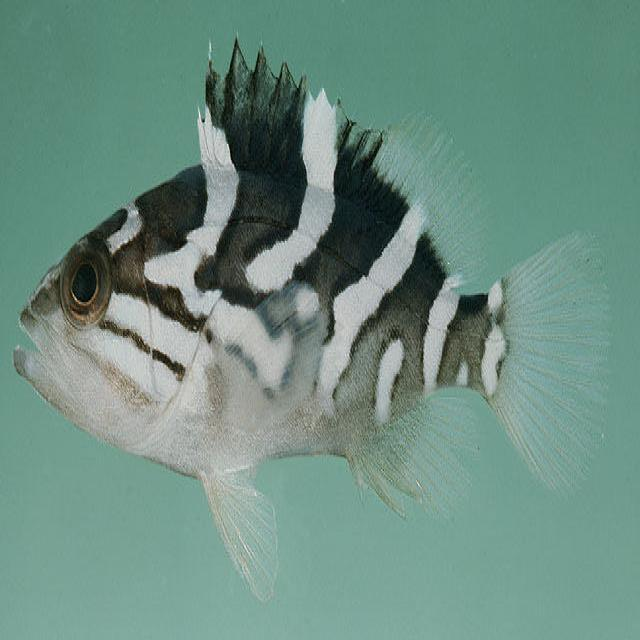ikan: (15, 36, 613, 520)
